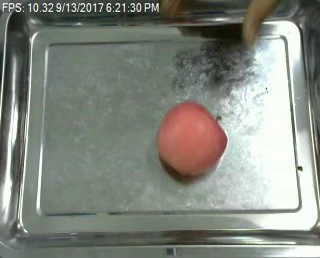Apple: (153, 97, 229, 182)
